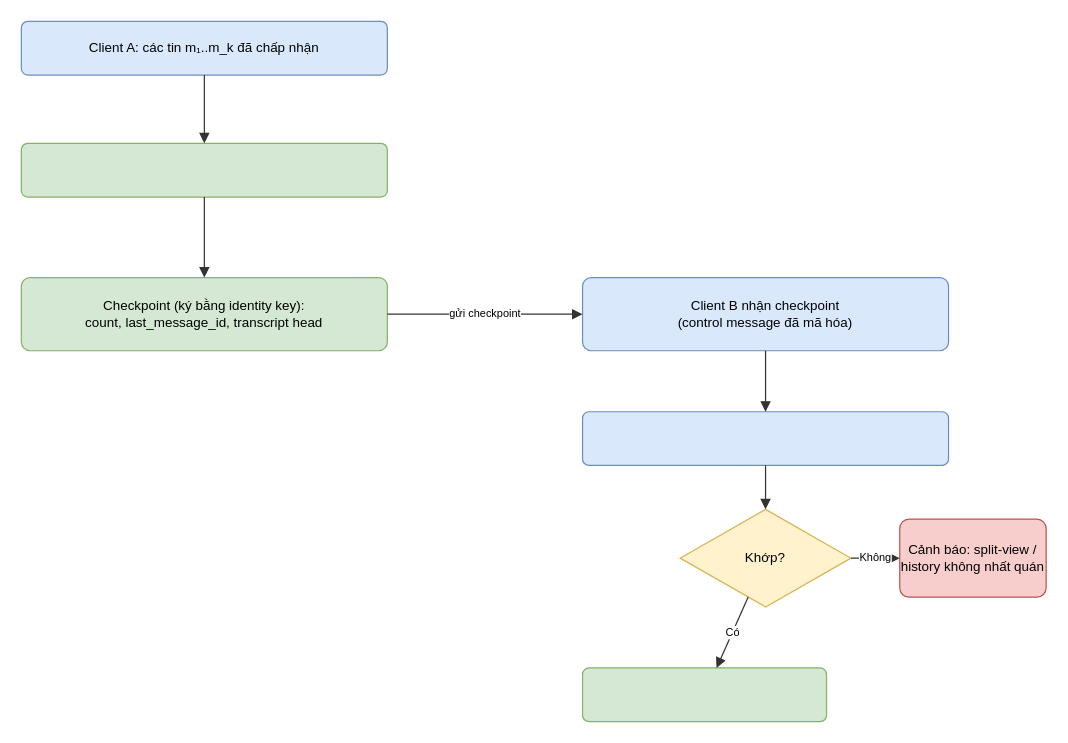
Image size: 1068x743. Some labels were removed from this diagram. The shapes that lost their labels are listed below. From the top down, each one's centre as x and y in pixels, then its label:
the point at 203,169: Tính rolling hash của transcript
the point at 765,438: So khớp với view cục bộ tại cùng message id
the point at 704,694: View nhất quán
